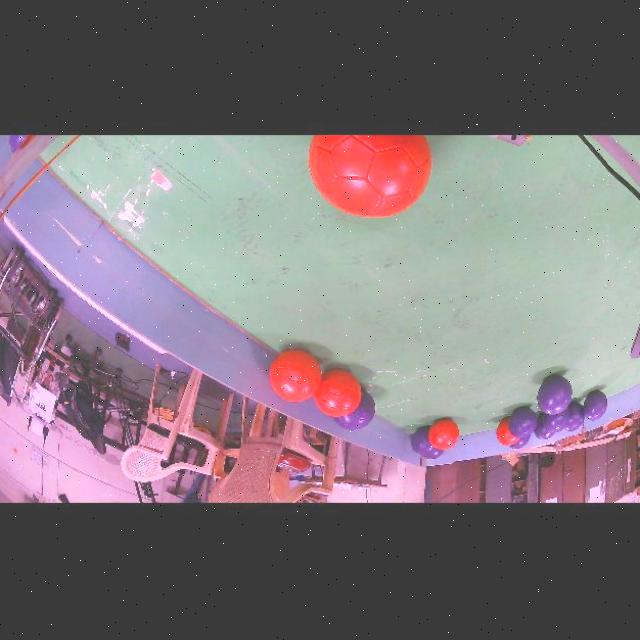P: (333, 391, 375, 430), (538, 375, 572, 415), (411, 426, 444, 459), (508, 407, 538, 438), (541, 407, 571, 432), (584, 390, 608, 421), (566, 402, 585, 431), (534, 413, 554, 440), (509, 436, 530, 449)
R: (309, 135, 431, 216), (269, 349, 322, 402), (314, 370, 361, 417), (429, 418, 460, 449), (497, 417, 520, 445)
